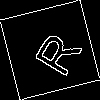R: (25, 25, 83, 79)
